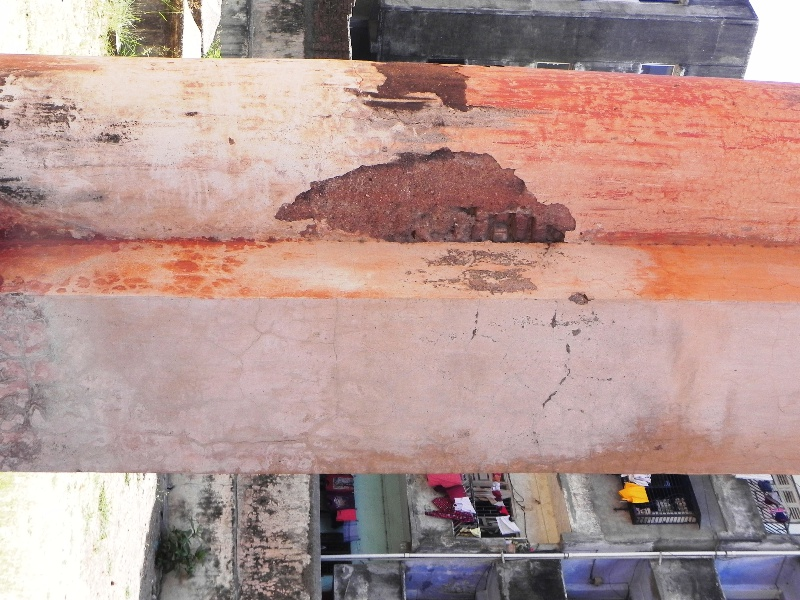Exposed Bricks: (455, 207, 567, 243)
Spalling: (270, 145, 585, 249), (344, 58, 481, 122)
